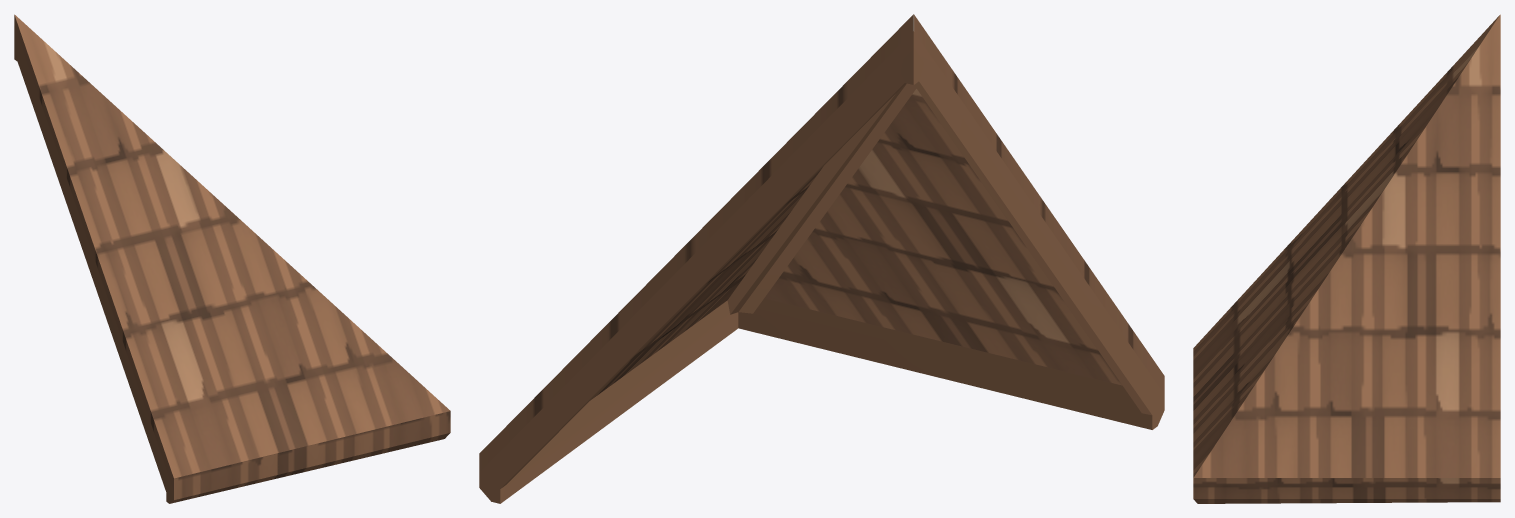
The model's file is SM_Bld_Base_Roof_Corner_Out_01_edit.fbx.
3 renders of one model, left to right at view 1: azimuth 30°, elevation 25°; view 2: azimuth 150°, elevation 25°; view 3: azimuth 270°, elevation 25°, orthographic. The views are drawn at different scales.
Parts seen in each view (by area): view 1: SM_Bld_Base_Roof_Corner_Out_01; view 2: SM_Bld_Base_Roof_Corner_Out_01; view 3: SM_Bld_Base_Roof_Corner_Out_01.
Part boxes in pixels (x1,y1,x2,y2): SM_Bld_Base_Roof_Corner_Out_01: (14,14,450,503); SM_Bld_Base_Roof_Corner_Out_01: (479,14,1164,503); SM_Bld_Base_Roof_Corner_Out_01: (1193,14,1500,503).
Size of the model in its own units: 250 by 325 by 250.
